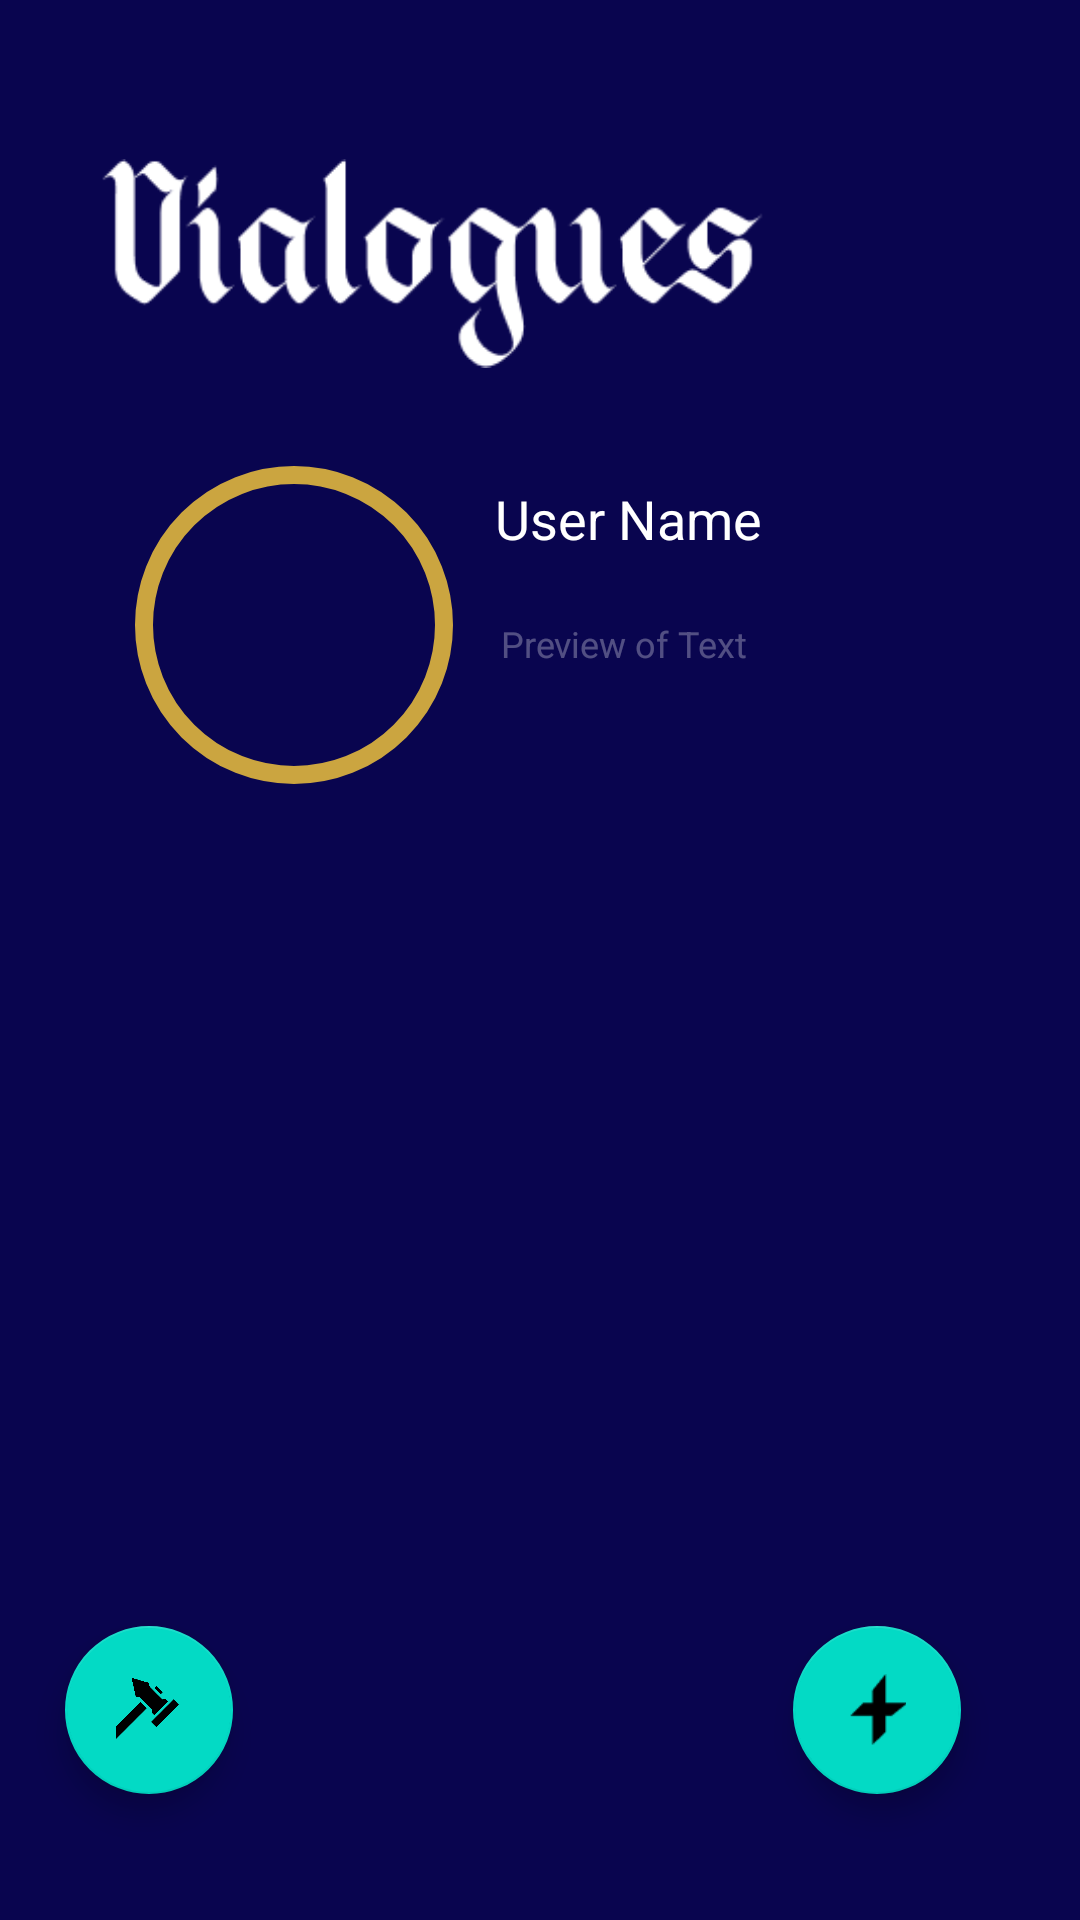

Named icons in this screenshot (1080px x 1920px) and their centers, (x,y):
add: (877,1710)
